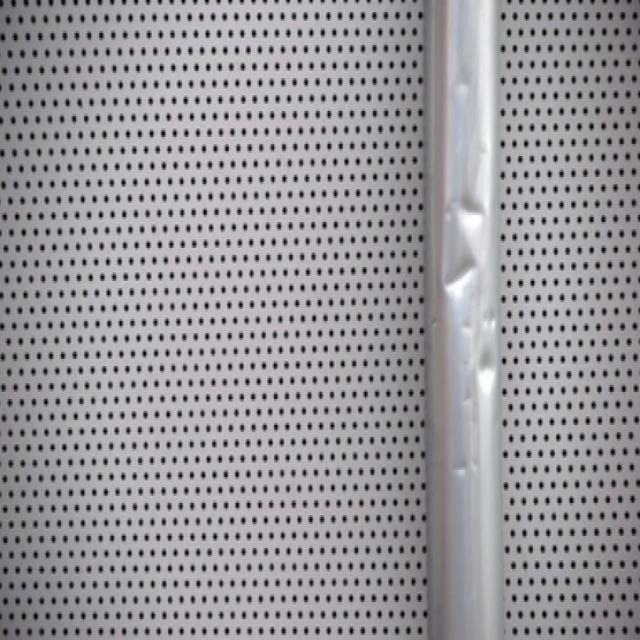dents: (443, 51, 497, 487)
